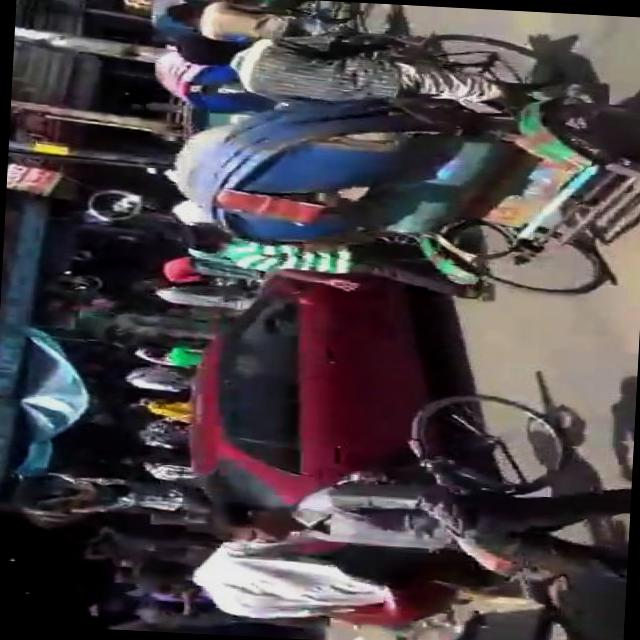car: (176, 259, 447, 563)
motorcycle: (163, 15, 640, 304), (129, 372, 581, 640), (144, 0, 358, 123), (139, 0, 235, 41)
